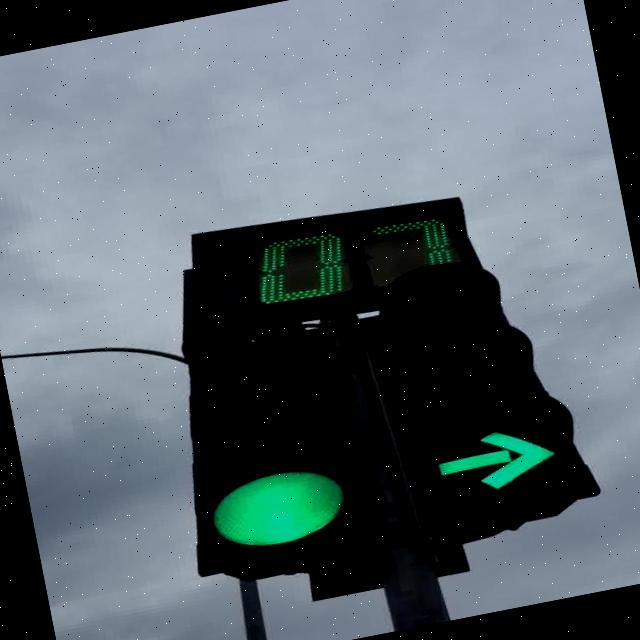green_light: (372, 242, 602, 528), (150, 290, 368, 578)
